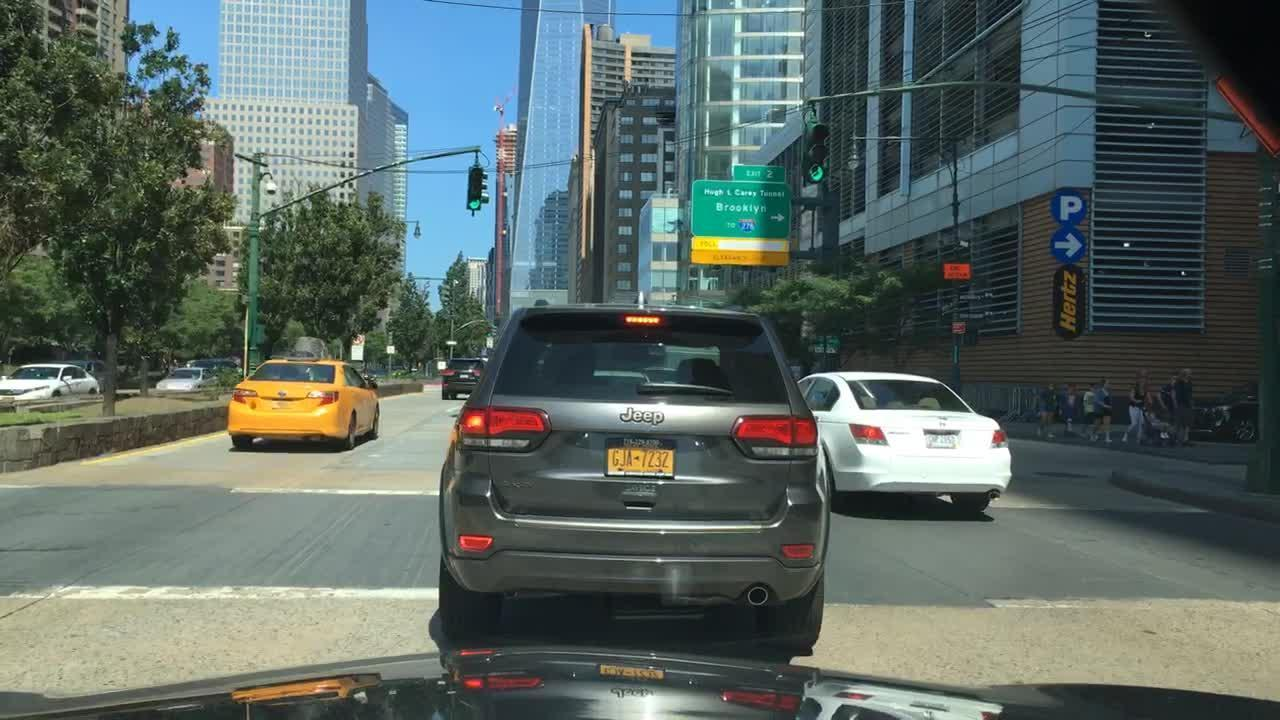jeep: (613, 397, 676, 432)
